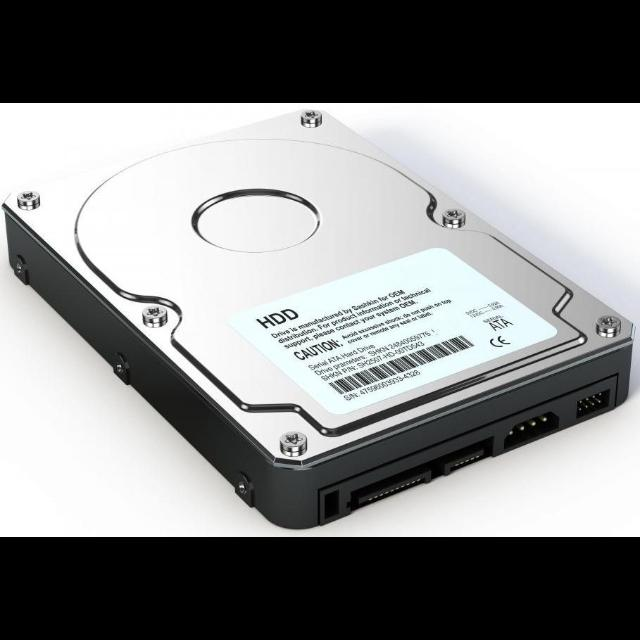HDD: (0, 107, 637, 532)
